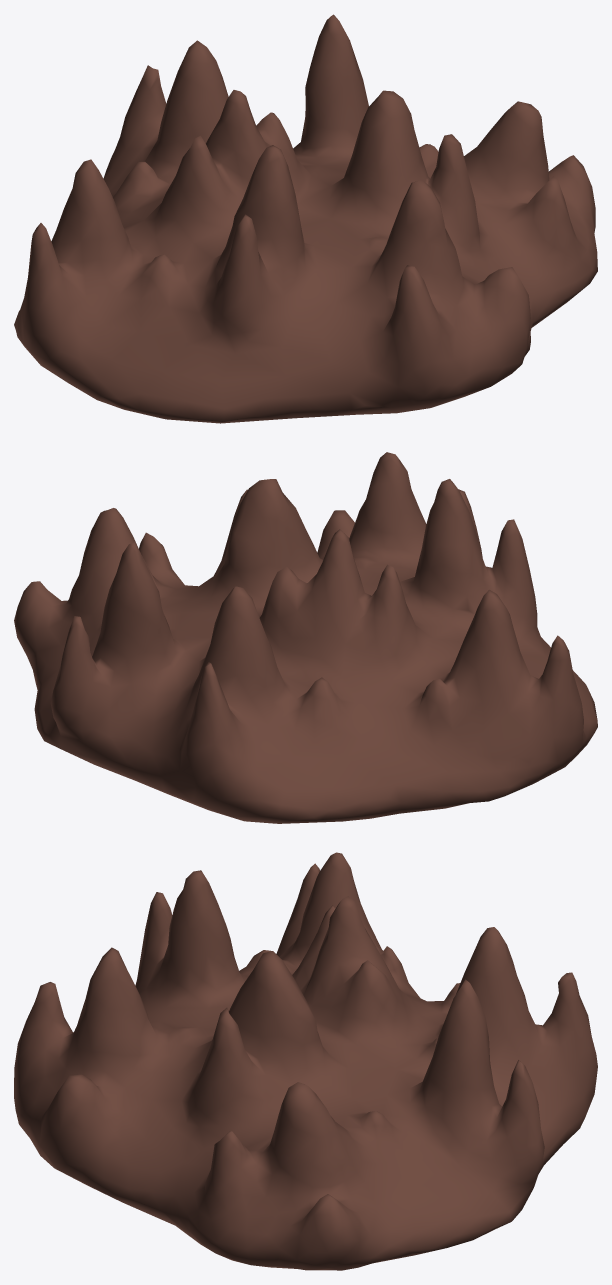
Rendered from vox_stalagmite_cluster03.fbx.
The picture shows the model from 3 angles, top to bottom: view 1: azimuth 30°, elevation 25°; view 2: azimuth 150°, elevation 25°; view 3: azimuth 270°, elevation 25°; orthographic projection. The views are drawn at different scales.
Visible parts, largest first — view 1: vox_stalactite_cluster01.004; view 2: vox_stalactite_cluster01.004; view 3: vox_stalactite_cluster01.004.
Part boxes in pixels (x1,y1,x2,y2): vox_stalactite_cluster01.004: [14, 14, 597, 423]; vox_stalactite_cluster01.004: [14, 452, 597, 823]; vox_stalactite_cluster01.004: [14, 852, 597, 1270].
Size of the model in its own units: 201 by 83.02 by 178.
